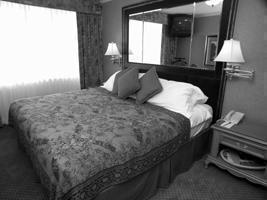Cama: (11, 2, 231, 185)
Ventana: (3, 3, 85, 84)
